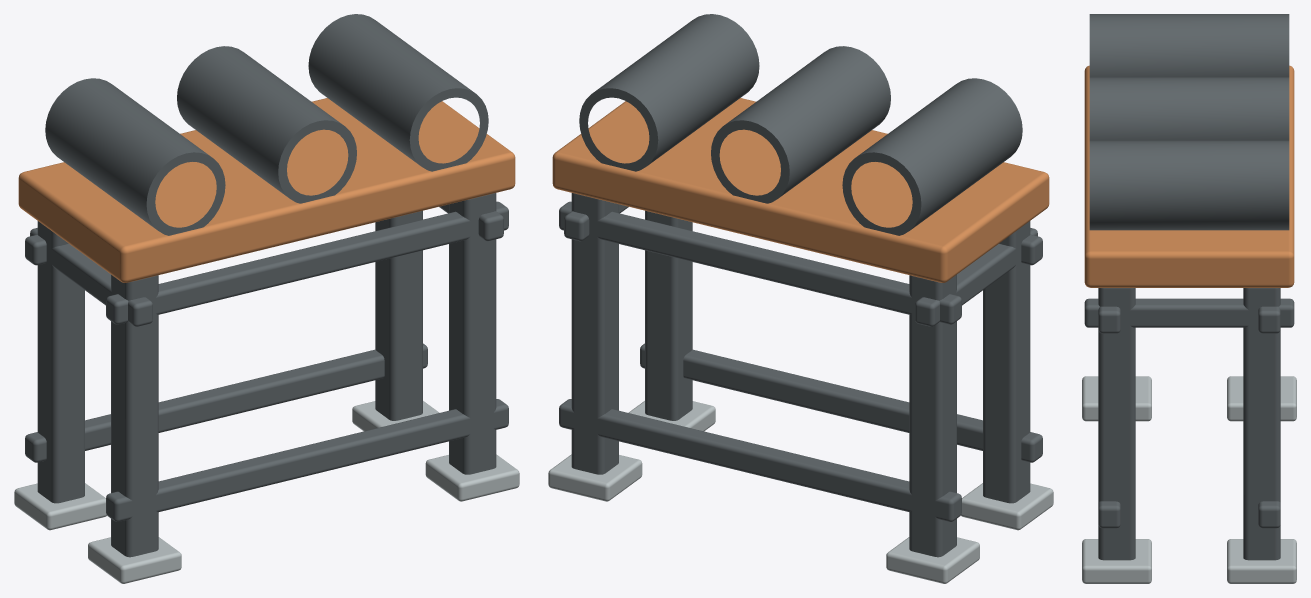
File: glassblowing-studio-and-gallery-pipe-warmer-84d4cb53__29588.glb
The picture shows the model from 3 angles, left to right: view 1: azimuth 30°, elevation 25°; view 2: azimuth 150°, elevation 25°; view 3: azimuth 270°, elevation 25°; orthographic projection.
Visible parts, largest first — view 1: pipe-warmer; view 2: pipe-warmer; view 3: pipe-warmer.
Boxes of the visible parts, x1=… form: pipe-warmer: x1=14, y1=14, x2=519, y2=583; pipe-warmer: x1=548, y1=14, x2=1053, y2=583; pipe-warmer: x1=1082, y1=14, x2=1296, y2=583.
Size of the model in its own units: 0.91 by 0.9 by 0.4299.
